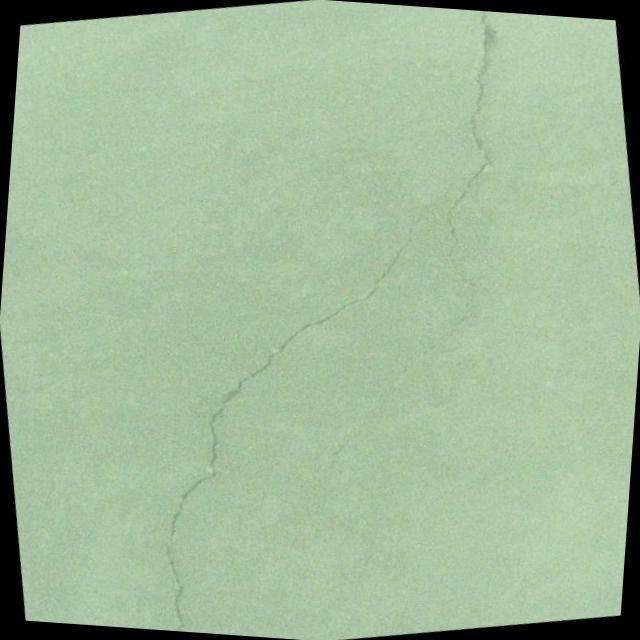crack: (218, 0, 581, 599), (81, 157, 488, 640)
